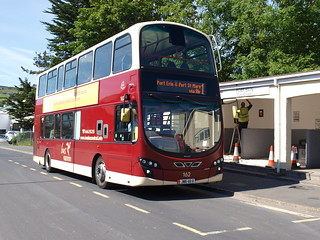bus: (31, 21, 225, 189)
